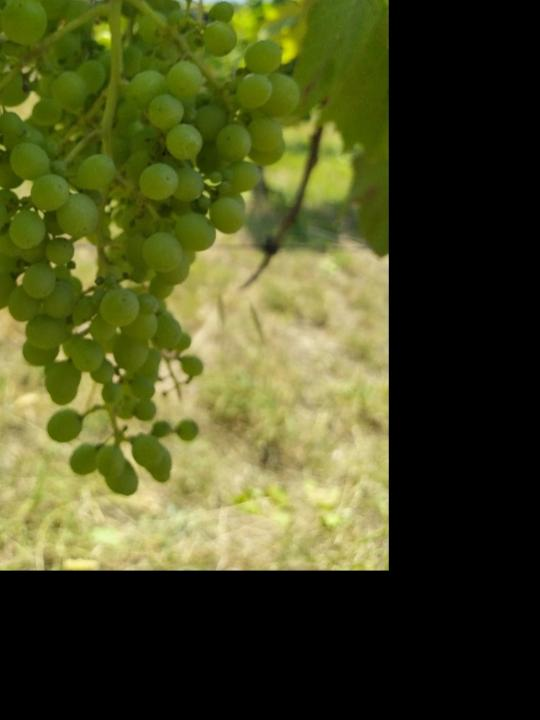grape: (0, 0, 301, 497)
